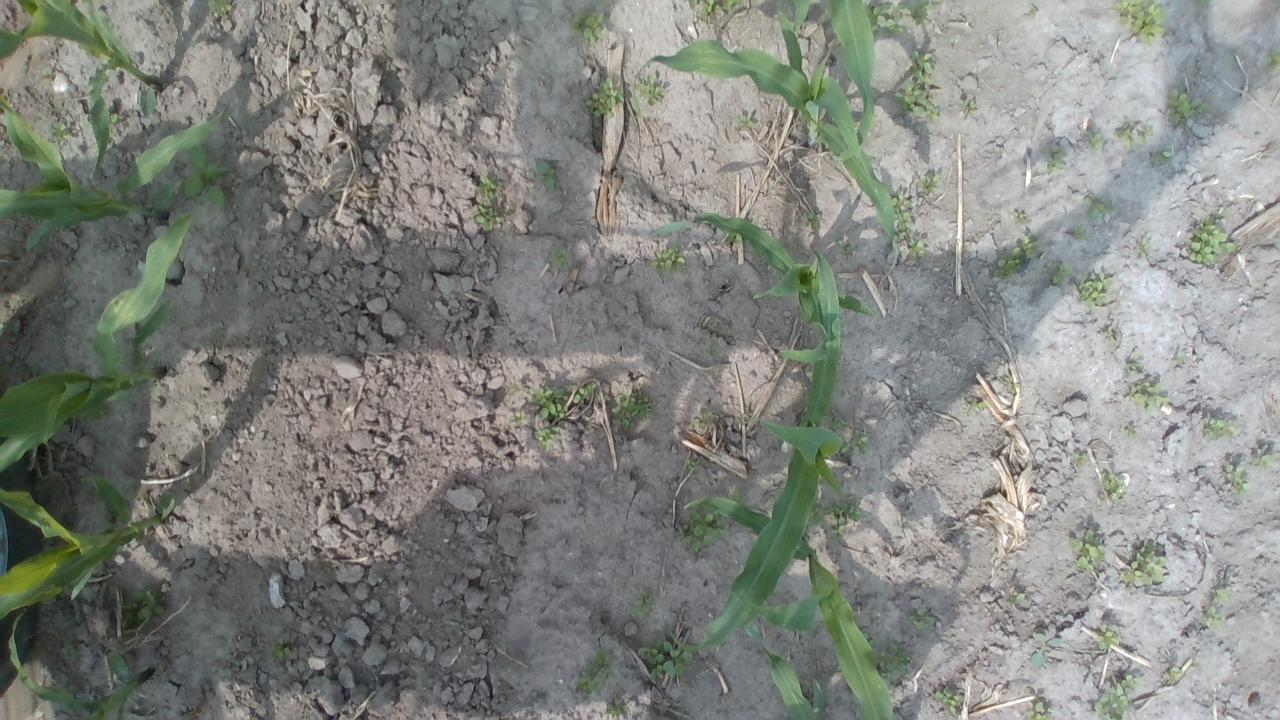Maize: (667, 246, 844, 656), (633, 9, 896, 238), (0, 210, 193, 470), (681, 494, 894, 720), (0, 93, 235, 250), (0, 0, 160, 182), (0, 474, 177, 619), (655, 208, 878, 323), (4, 607, 154, 720), (790, 0, 876, 160), (739, 620, 824, 720)
Weeds: (637, 626, 699, 681), (183, 143, 231, 209), (1112, 0, 1168, 44), (574, 648, 624, 696), (1188, 214, 1234, 266), (1118, 544, 1168, 588), (679, 510, 728, 554), (584, 78, 625, 127), (992, 238, 1040, 278), (1068, 527, 1108, 573), (894, 83, 940, 121), (612, 393, 654, 430), (826, 500, 864, 538), (874, 644, 912, 682), (862, 3, 904, 36), (1094, 684, 1132, 720), (124, 588, 162, 622), (531, 385, 568, 419), (1030, 631, 1062, 670), (1078, 270, 1110, 308), (568, 10, 606, 42), (908, 50, 939, 86), (890, 190, 913, 238), (1128, 383, 1168, 410), (1166, 88, 1196, 124), (650, 246, 686, 273), (76, 399, 114, 423), (630, 585, 654, 621), (904, 608, 938, 633), (934, 686, 962, 716), (534, 158, 560, 190), (473, 206, 505, 232), (1038, 260, 1072, 284), (1096, 472, 1124, 501), (1084, 194, 1116, 219), (636, 76, 664, 104), (472, 174, 498, 204), (1224, 462, 1248, 494), (905, 0, 937, 24), (846, 430, 874, 457), (1096, 624, 1119, 652), (1204, 418, 1234, 439), (549, 244, 572, 270), (1022, 700, 1051, 720), (1045, 146, 1067, 172), (48, 120, 72, 143), (536, 426, 560, 448), (1116, 121, 1134, 150), (572, 382, 598, 402), (268, 639, 290, 662), (1200, 608, 1226, 627), (1249, 446, 1270, 468), (604, 697, 626, 717), (206, 0, 233, 16), (1072, 450, 1092, 471), (802, 209, 822, 228), (1122, 358, 1144, 375), (908, 238, 928, 256), (919, 175, 940, 192), (834, 238, 855, 255), (1154, 144, 1173, 162), (692, 414, 711, 431), (700, 0, 719, 17), (702, 344, 725, 358), (1165, 665, 1182, 683), (830, 416, 850, 431), (1267, 50, 1280, 73), (105, 110, 122, 127), (1120, 672, 1136, 690), (861, 628, 876, 647), (959, 99, 978, 114), (966, 398, 985, 412), (166, 179, 182, 195), (684, 458, 700, 474), (1088, 134, 1104, 150), (811, 505, 826, 522), (1214, 588, 1231, 603), (729, 488, 746, 503), (1009, 591, 1026, 606), (508, 410, 526, 424), (100, 510, 114, 528), (1071, 224, 1087, 239), (735, 115, 753, 128), (1003, 376, 1016, 393), (60, 642, 75, 656), (725, 232, 745, 242), (1014, 210, 1028, 224), (1135, 243, 1148, 258), (508, 380, 524, 392), (722, 0, 741, 10), (1103, 330, 1118, 342), (1124, 424, 1136, 436), (1197, 102, 1209, 113), (1141, 126, 1153, 137), (0, 319, 7, 337), (109, 646, 122, 655), (826, 56, 836, 65), (39, 72, 50, 80), (798, 22, 806, 33), (1198, 0, 1211, 6), (80, 482, 92, 488), (687, 0, 699, 6), (1176, 356, 1184, 364)
